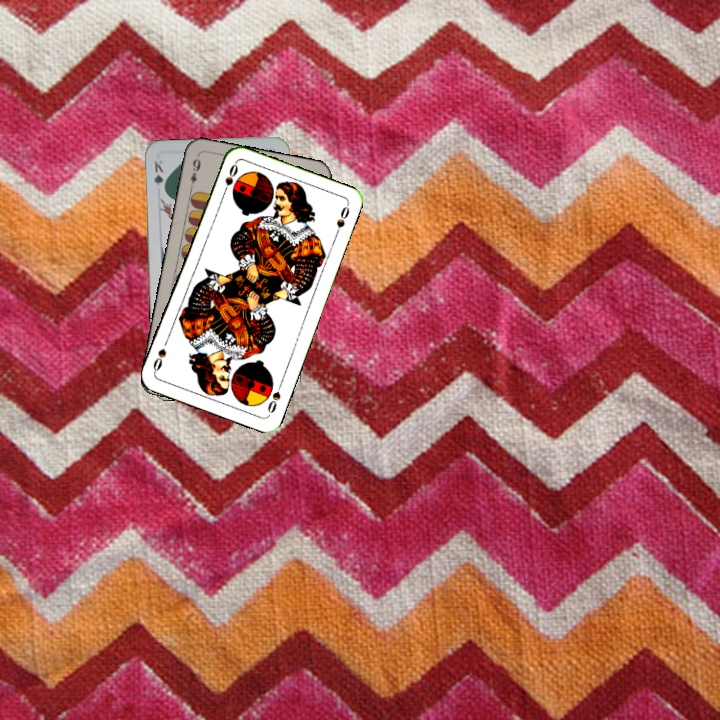E9: (186, 154, 203, 193)
GK: (150, 156, 167, 195)
SO: (218, 160, 241, 199), (263, 378, 285, 417)
